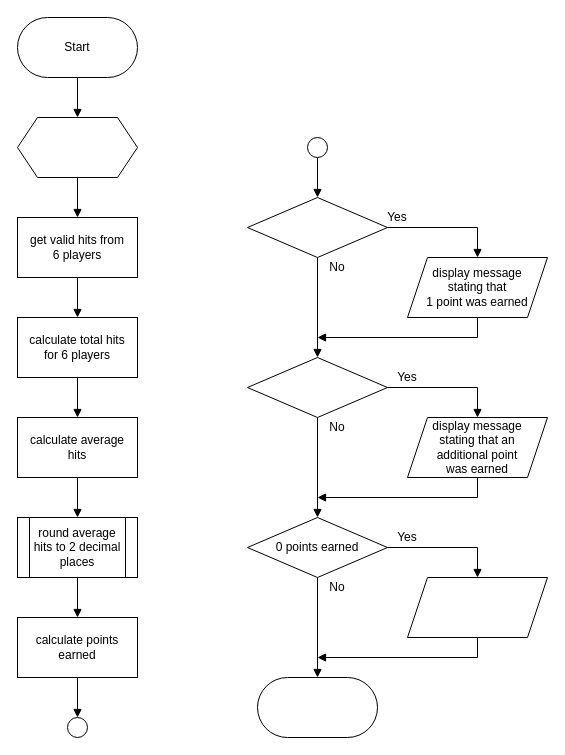
Image size: 565x755. Some labels were removed from this diagram. The shapes that lost their labels are listed below. From the top down, each one's centre as x and y in pixels, then its label:
At (x=77, y=147): "Initialise variables and data structures as required".
At (x=317, y=227): "1 point earned?".
At (x=317, y=387): "2 points earned?".
At (x=477, y=607): "display message stating that no points were earned".
At (x=317, y=707): "End".
